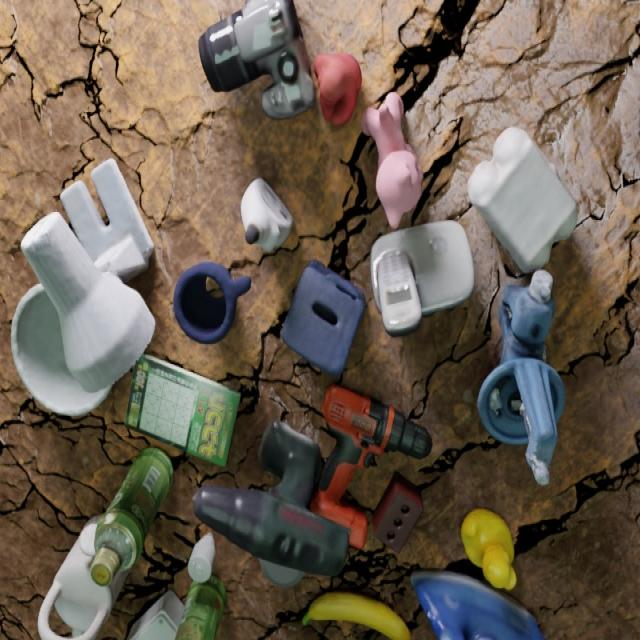Other Objects: (193, 385, 430, 577), (467, 128, 577, 272), (198, 1, 315, 119), (125, 356, 239, 467), (370, 221, 473, 336), (90, 448, 172, 585), (281, 261, 363, 375), (411, 571, 544, 640), (361, 93, 422, 229), (173, 263, 250, 344), (302, 593, 410, 640), (460, 509, 515, 589), (240, 179, 292, 252), (313, 55, 361, 127), (188, 533, 214, 583)
